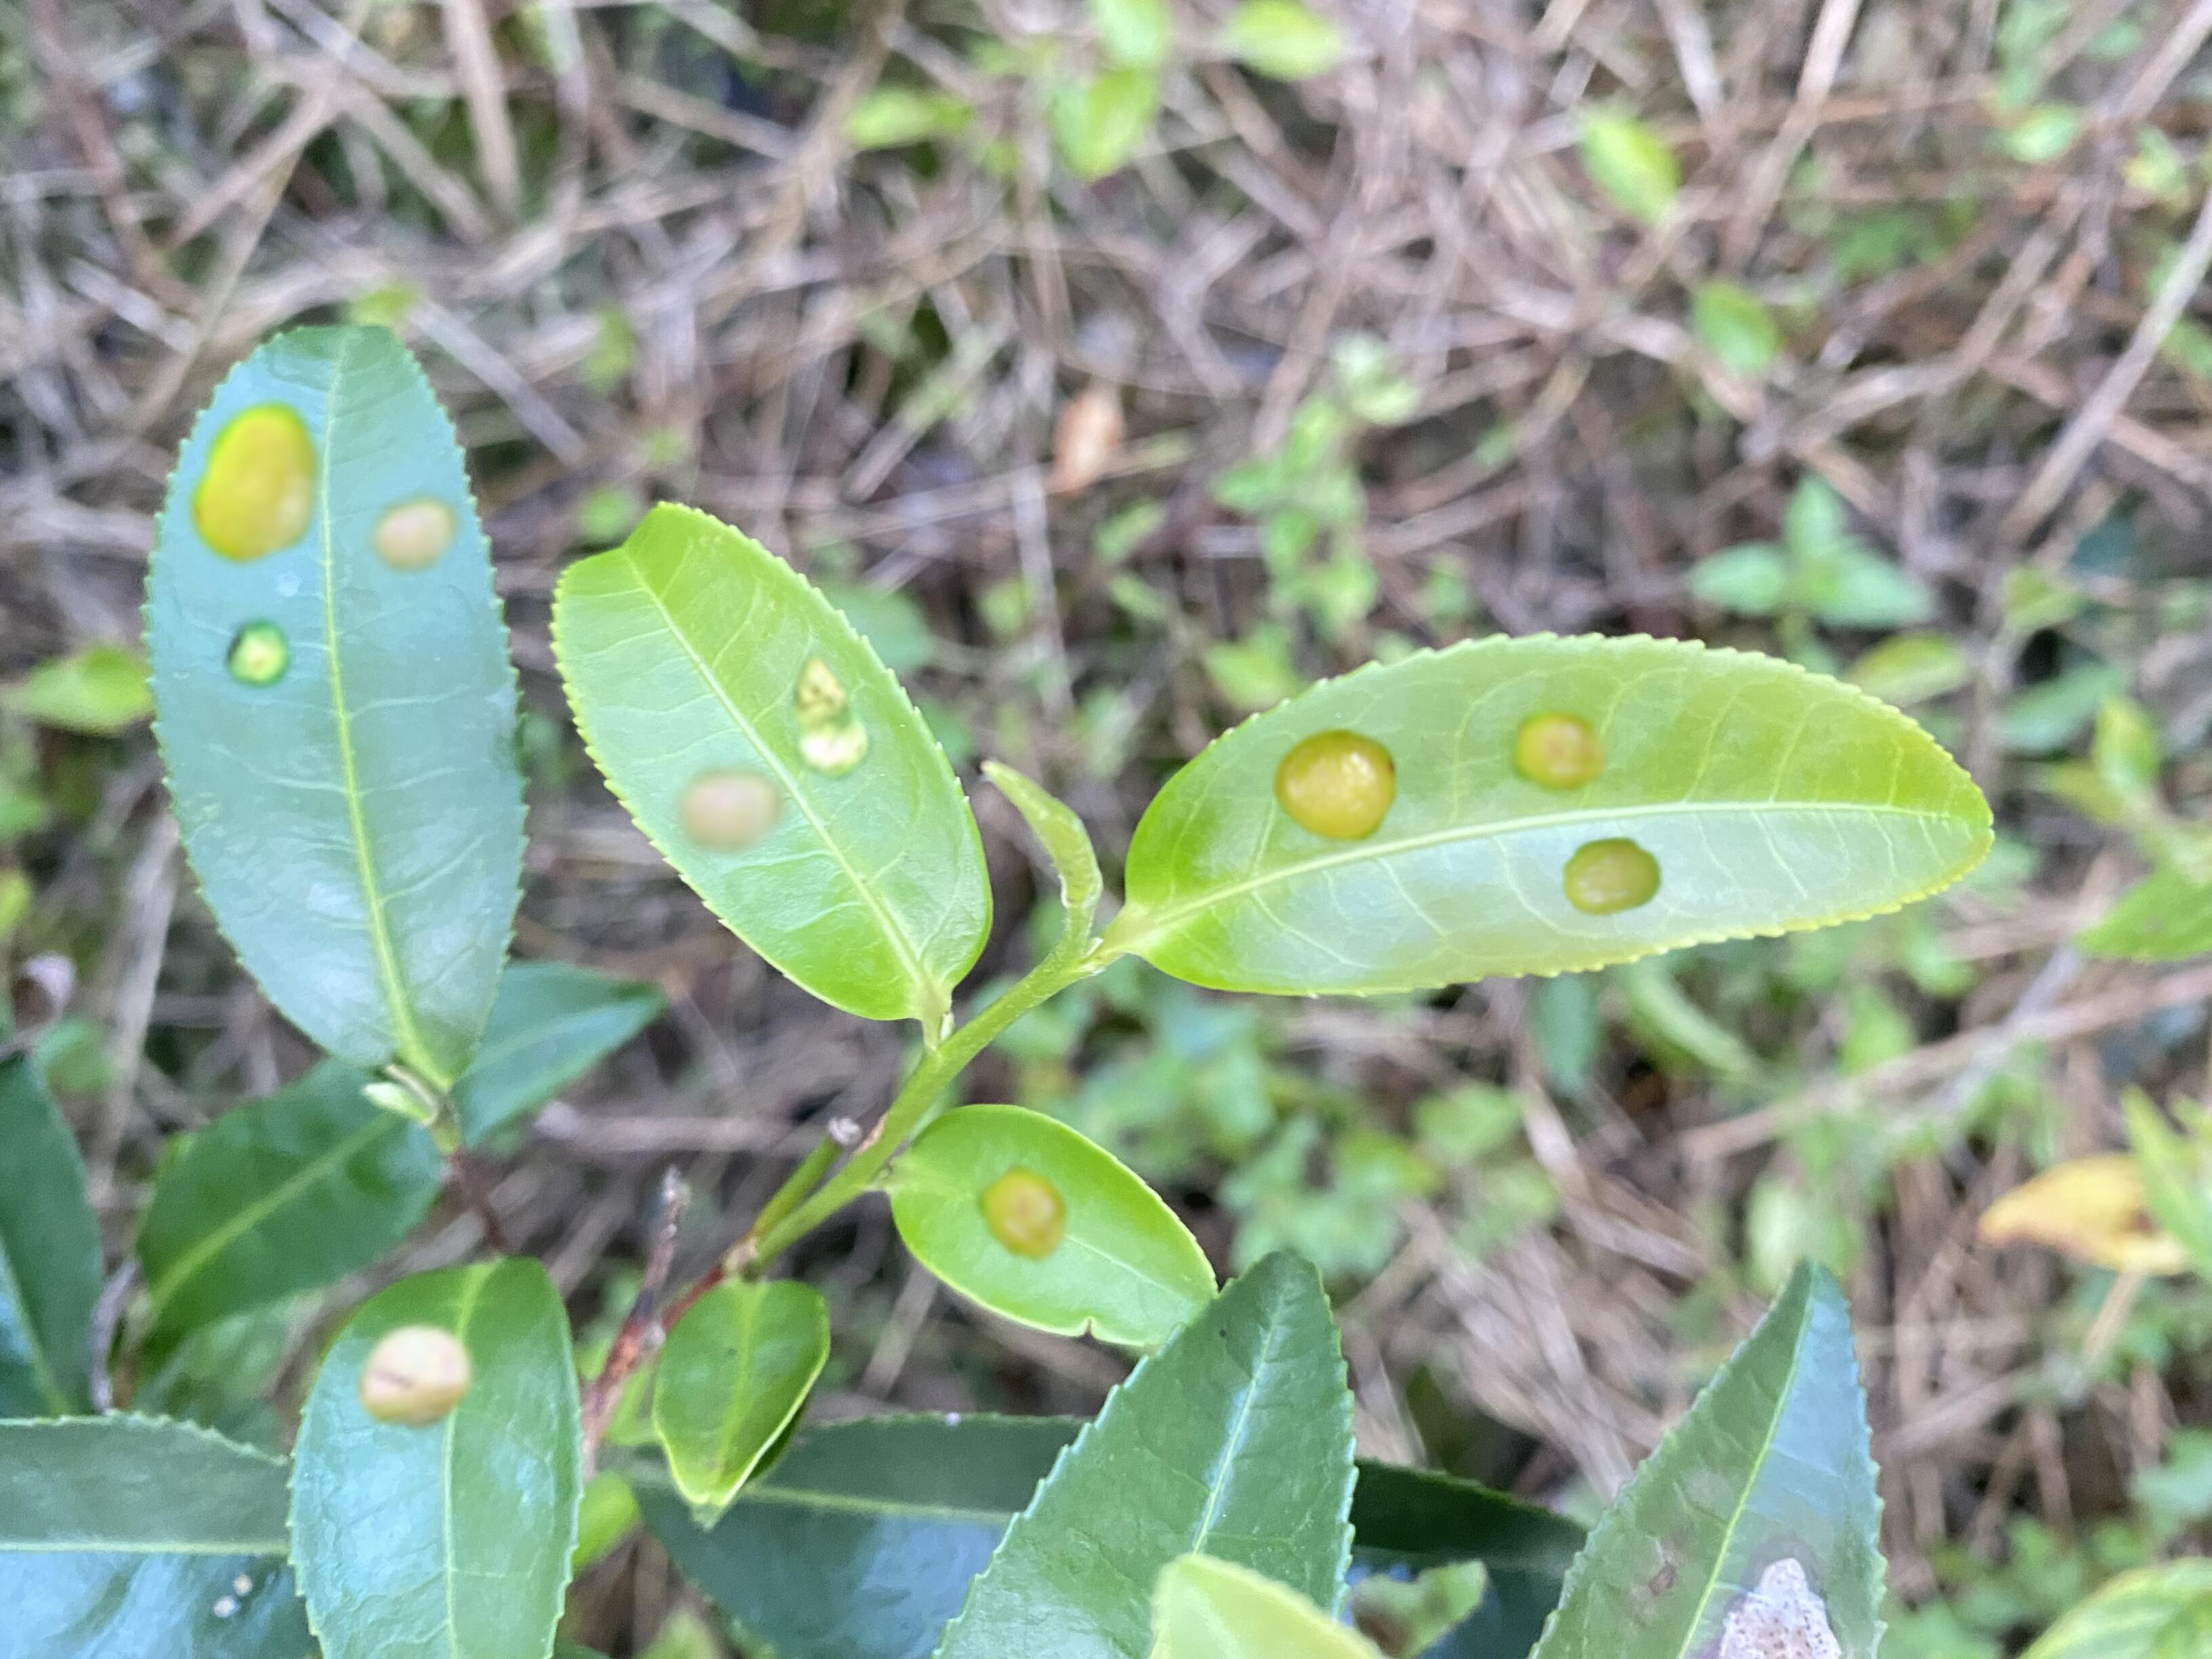chabing_high: (1123, 629, 1998, 1000), (136, 322, 531, 1080), (547, 498, 995, 1021)
chabing_low: (287, 1256, 583, 1659), (890, 1101, 1221, 1347)
healthy: (930, 1253, 1360, 1652)
tanju_high: (1527, 1255, 1892, 1659)
